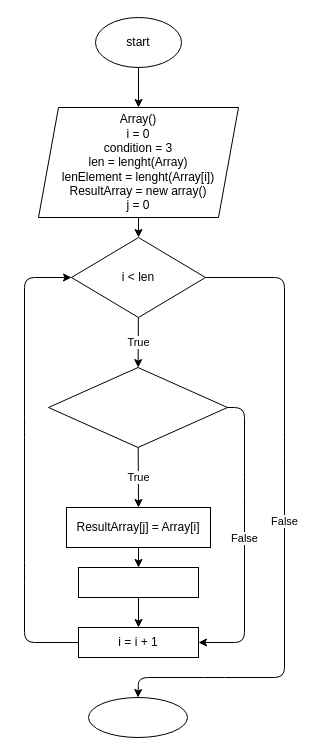
Some shapes in this 315 by 755 pixel diagram are drawn without their labels. Each missing label, with the centre of its shape:
end: the point at 138,717
j = j + 1: the point at 138,582
lenElement <= condition: the point at 138,407
